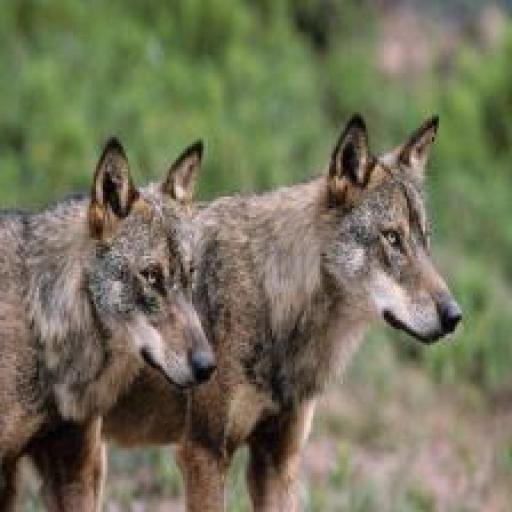wolf: (119, 100, 472, 511), (0, 130, 219, 509)
